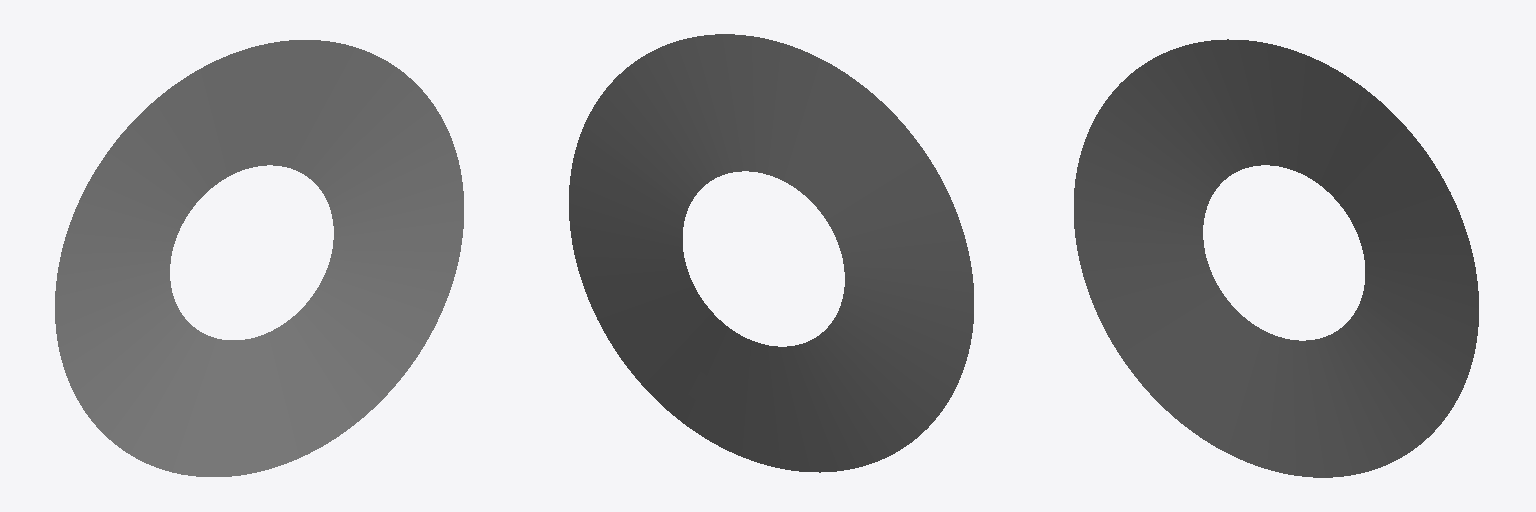
Rendered from eyeball_2.obj.
3 views of the same model, side by side, from view 1: azimuth 30°, elevation 25°; view 2: azimuth 150°, elevation 25°; view 3: azimuth 330°, elevation 25° (orthographic).
Bounding box in the file's own units: 1.49 × 1.49 × 0.0577.